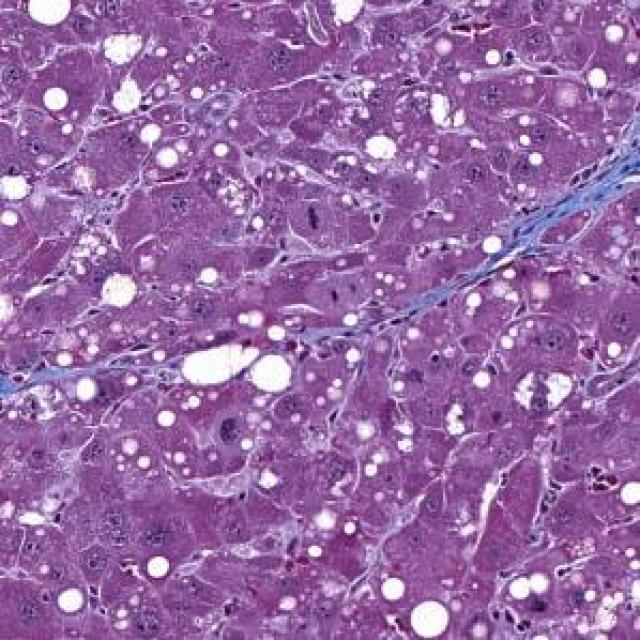fibrosis: (505, 128, 640, 264)
